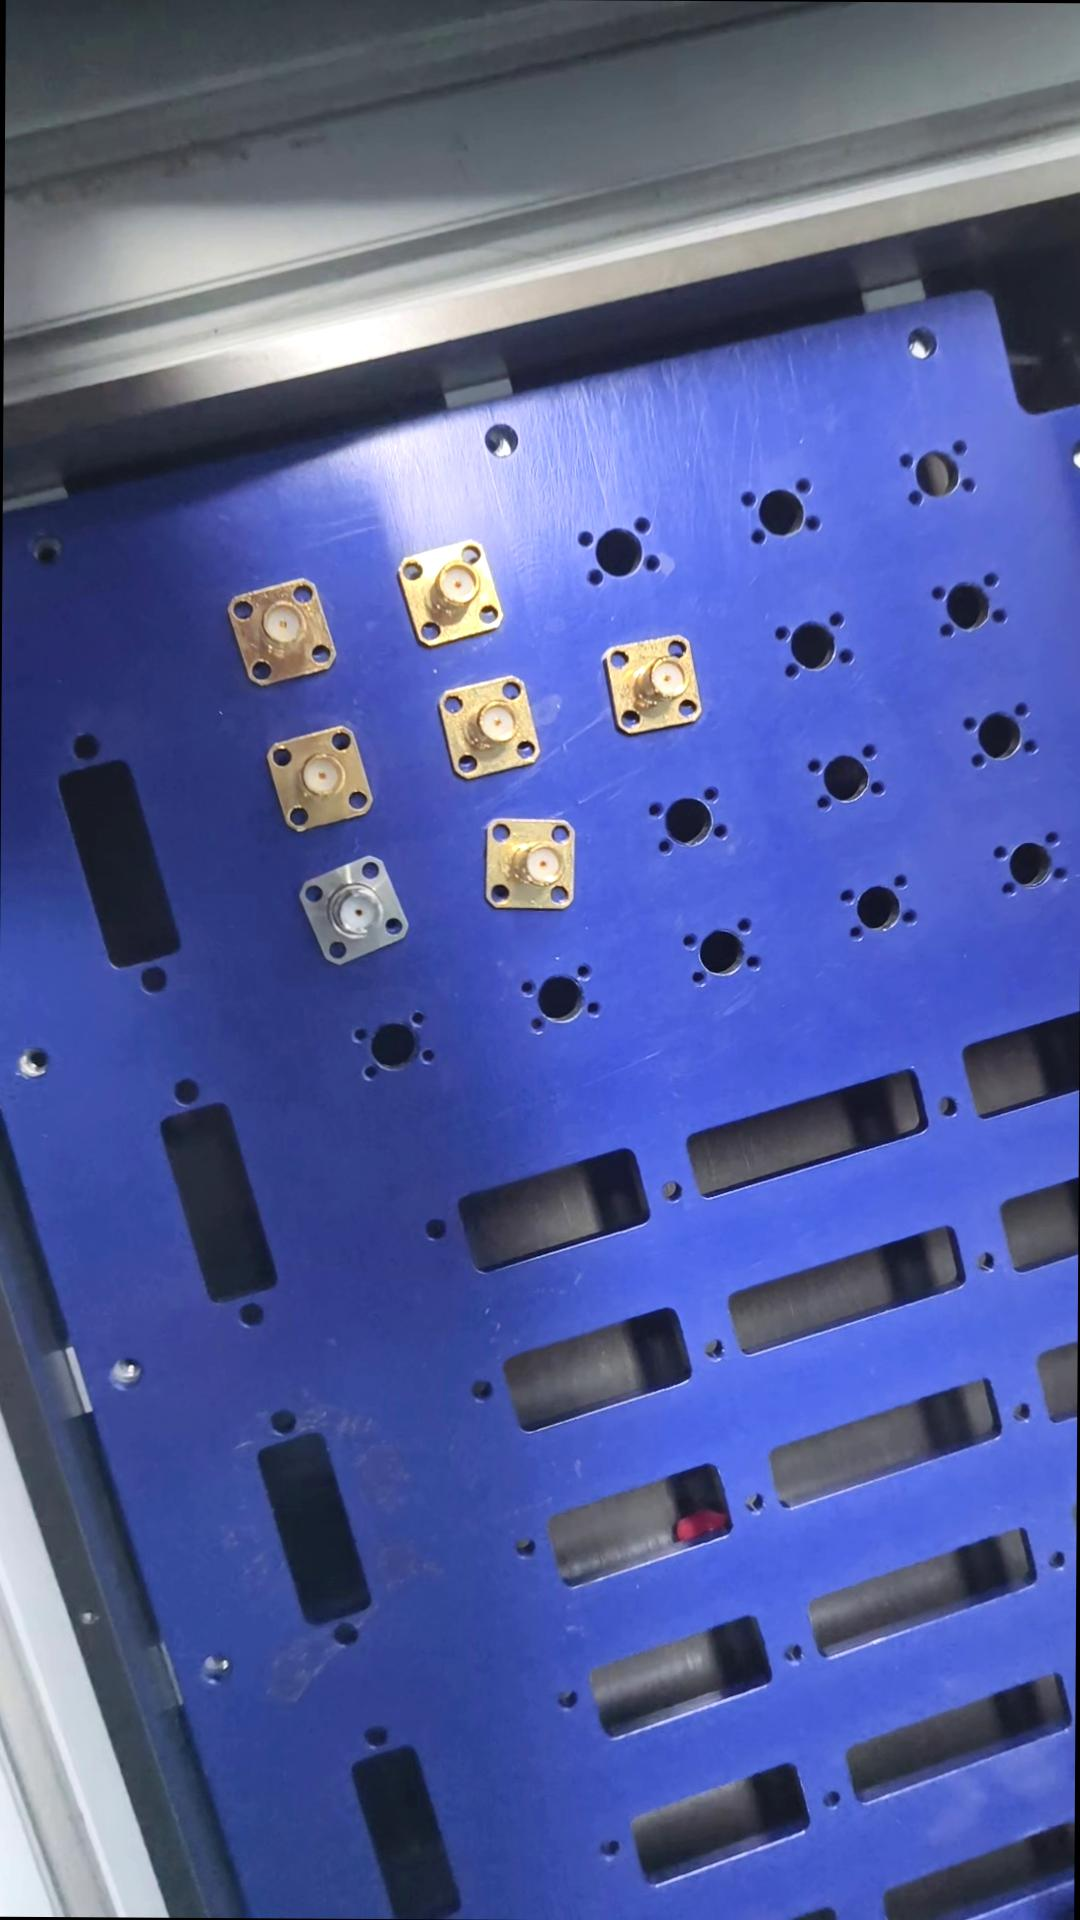SMA: (222, 580, 345, 688), (298, 856, 419, 963), (398, 537, 516, 644), (269, 727, 382, 831), (477, 814, 587, 918), (436, 679, 550, 778), (607, 632, 705, 741)
